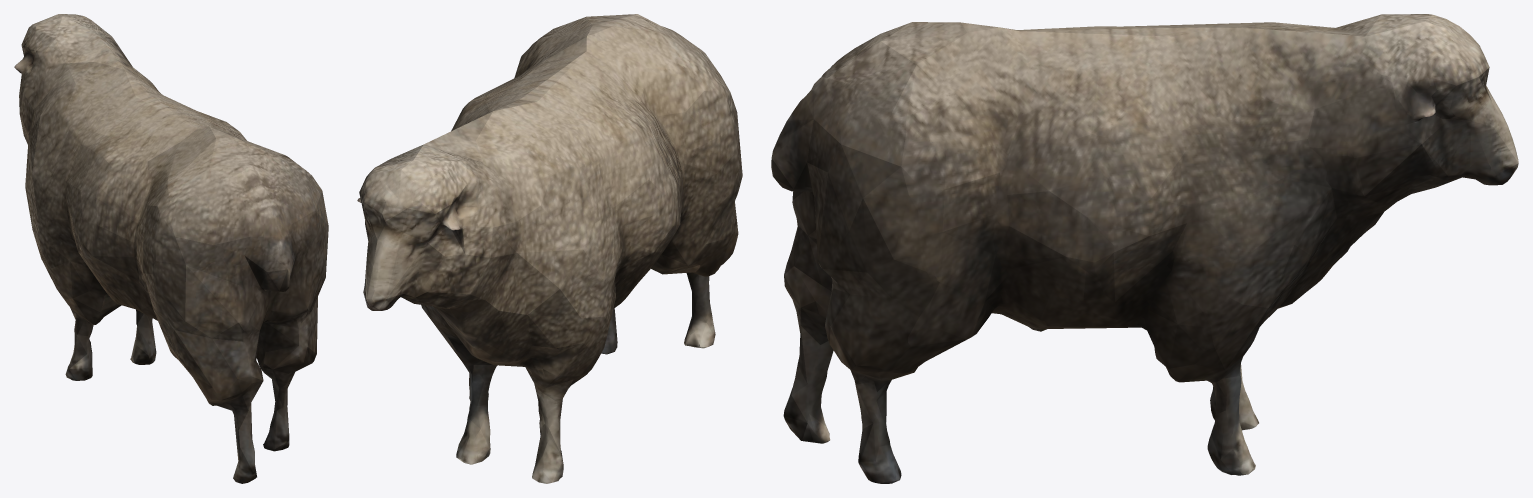
Rendered from Sheep.fbx.
The picture shows the model from 3 angles, left to right: view 1: azimuth 30°, elevation 25°; view 2: azimuth 150°, elevation 25°; view 3: azimuth 270°, elevation 25°; orthographic projection. The views are drawn at different scales.
Parts seen in each view (by area): view 1: Sheep; view 2: Sheep; view 3: Sheep.
Part boxes in pixels (x1,y1,x2,y2): Sheep: [14, 14, 328, 483]; Sheep: [357, 14, 742, 483]; Sheep: [771, 14, 1518, 483].
Bounding box in the file's own units: 0.4398 × 0.6852 × 1.06.
Materials: 1 (1 with a texture image).
